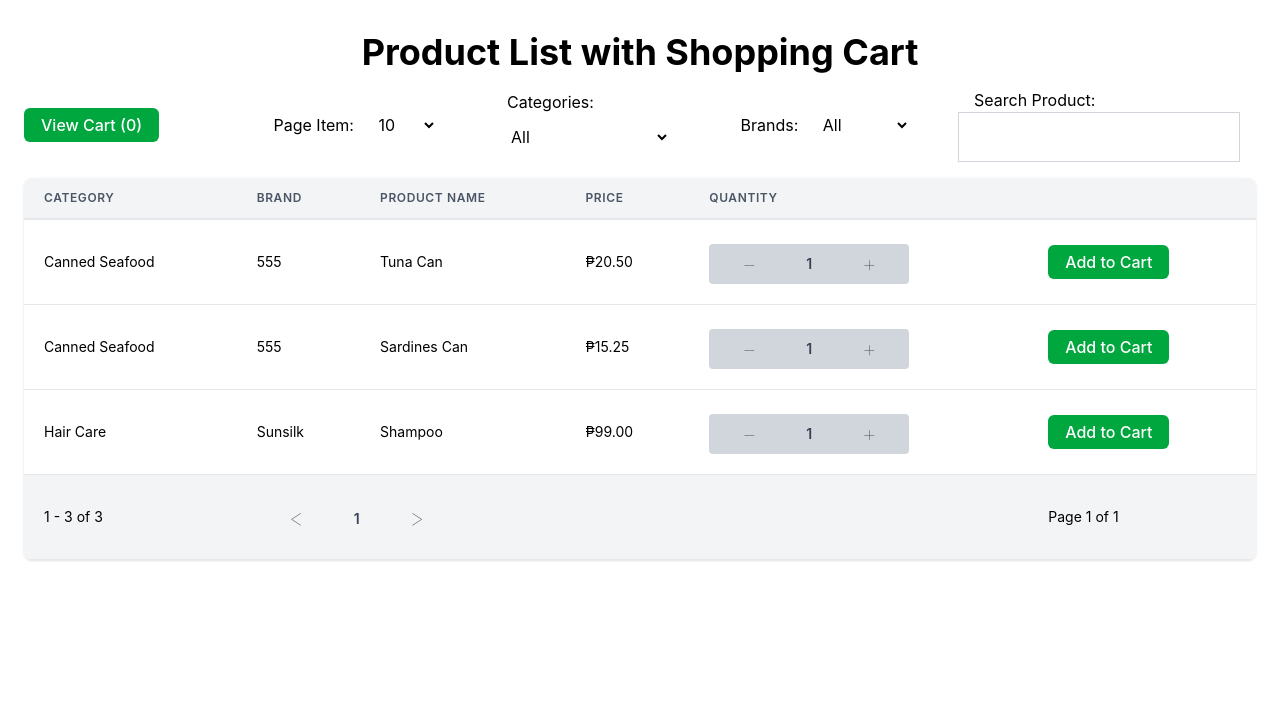
quantity field can be cleared and retyped
Step 1. Replace the text in the number field named "quantity" in the row of "Tuna Can" with "5" → (809, 264), box [789,244,829,284]
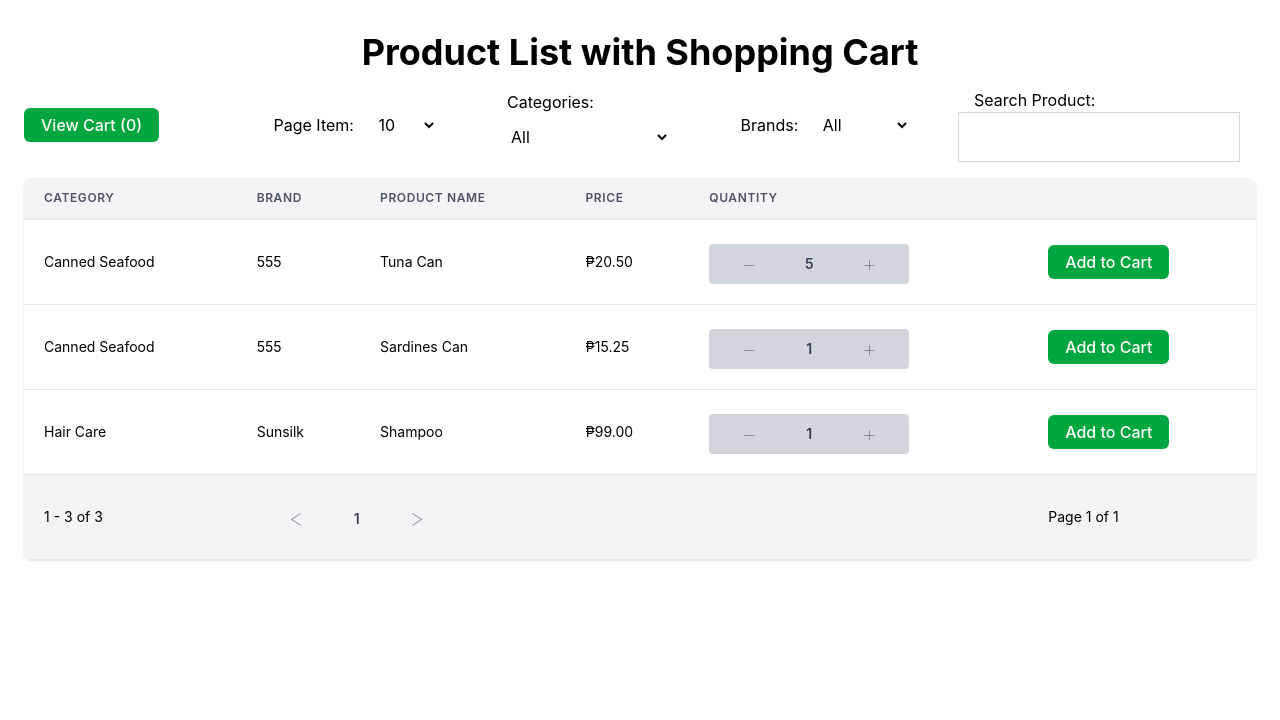
Step 2. Click the button "Add to Cart" in the row of "Tuna Can" → (1109, 262), box [1048,245,1170,279]
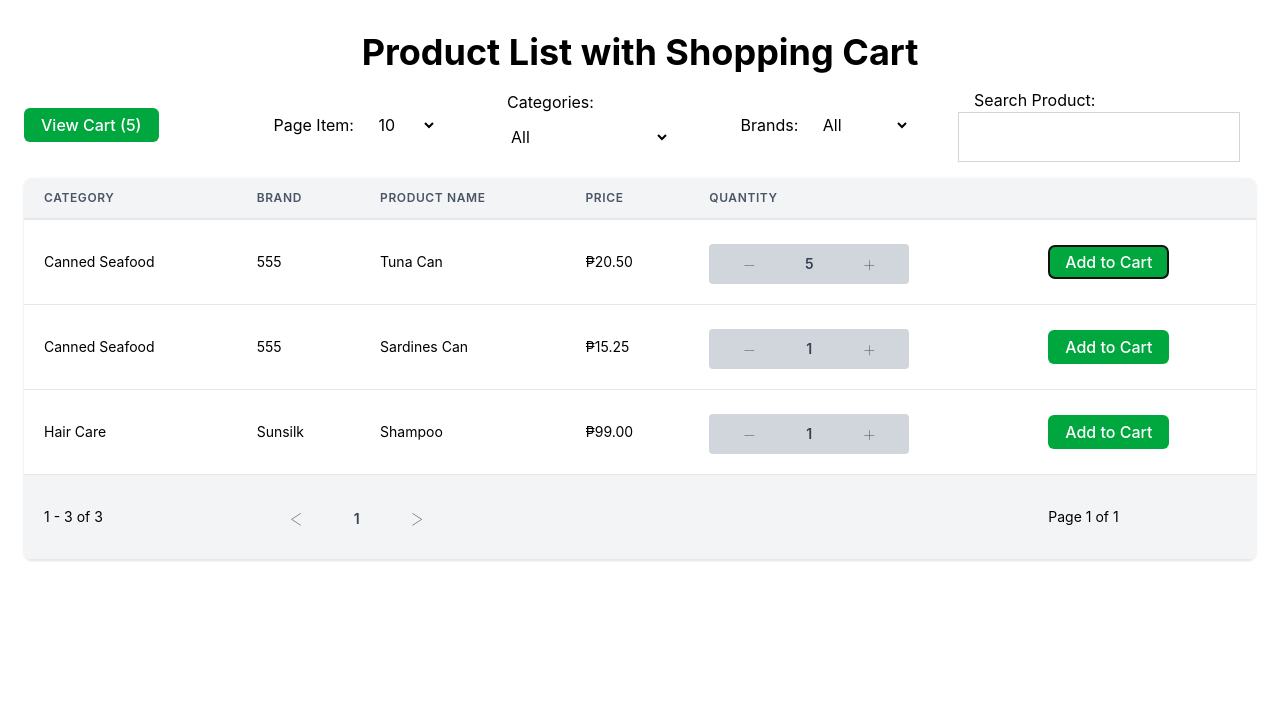
expect the button "View Cart (5)" is shown: met, box [24,108,158,142]
